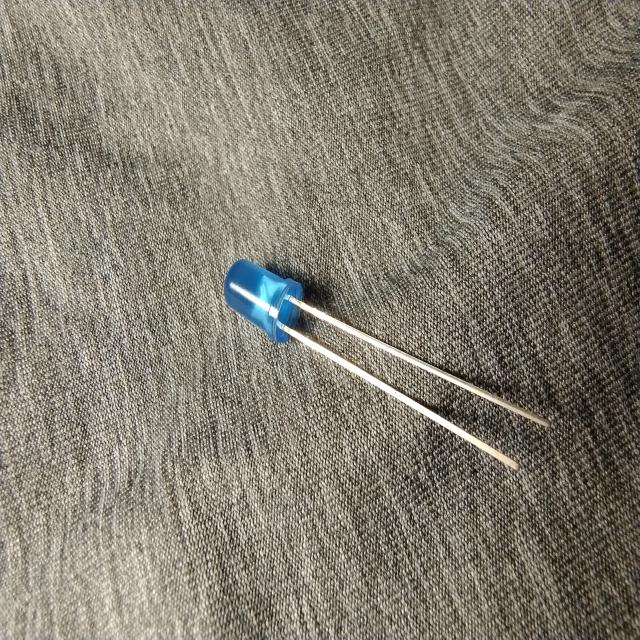blue_led: (223, 256, 552, 472)
